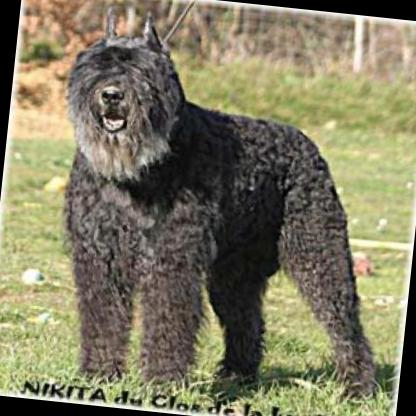Bouvier_des_Flandres: (36, 5, 412, 410)
